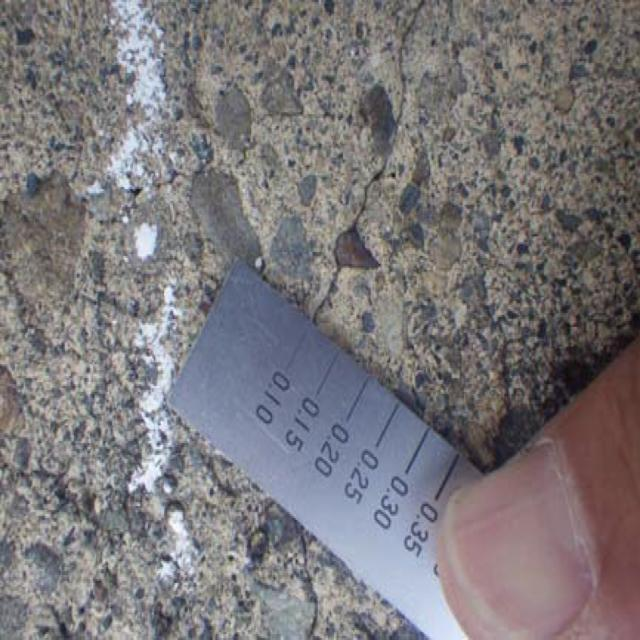crack: (296, 6, 424, 344), (268, 495, 355, 640)
